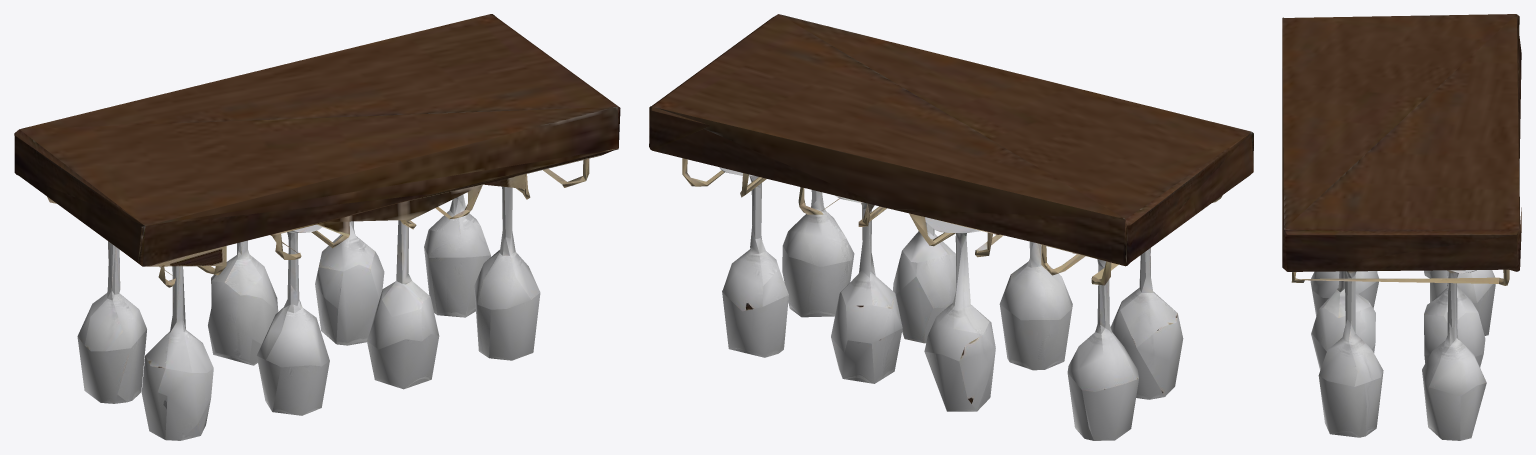
Rendered from sp_m_glassrack.glb.
The picture shows the model from 3 angles, left to right: view 1: azimuth 30°, elevation 25°; view 2: azimuth 150°, elevation 25°; view 3: azimuth 270°, elevation 25°; orthographic projection. The views are drawn at different scales.
Visible parts, largest first — view 1: Mesh_0; view 2: Mesh_0; view 3: Mesh_0.
Part boxes in pixels (bbox=[...]): Mesh_0: bbox=[14, 14, 620, 440]; Mesh_0: bbox=[649, 14, 1253, 440]; Mesh_0: bbox=[1282, 14, 1521, 440].
Bounding box in the file's own units: 1.9 × 0.9464 × 0.8802.
1 material, 1 textured.
